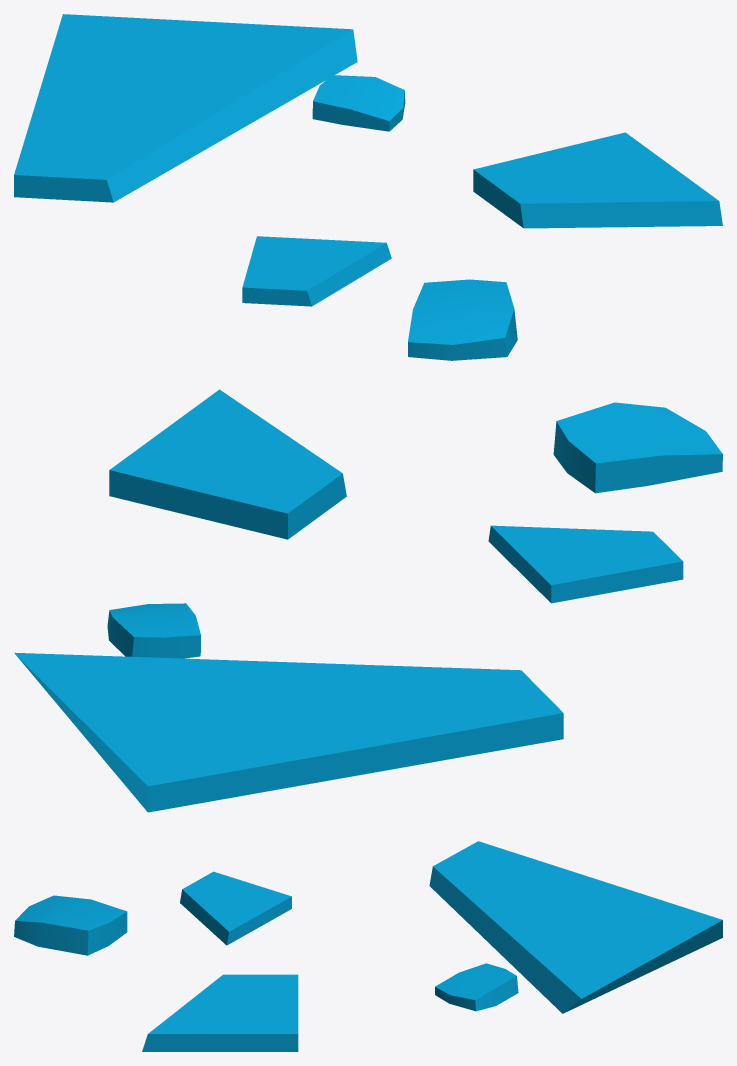
The model's file is Debris_Tile_05.fbx.
3 views of the same model, one above another, from view 1: azimuth 30°, elevation 25°; view 2: azimuth 150°, elevation 25°; view 3: azimuth 270°, elevation 25° (orthographic). The views are drawn at different scales.
Visible parts, largest first — view 1: Debris_Tile_05; view 2: Debris_Tile_05; view 3: Debris_Tile_05.
Boxes of the visible parts, <box> form: Debris_Tile_05: <box>14,14,722,360</box>; Debris_Tile_05: <box>14,389,722,812</box>; Debris_Tile_05: <box>14,841,722,1051</box>.
Size of the model in its own units: 49.17 by 3.06 by 75.43.
